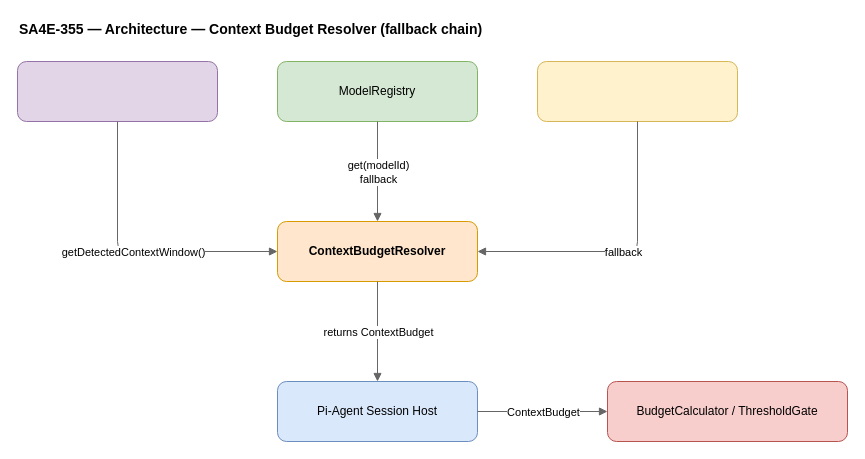
Some shapes in this 865 by 459 pixel diagram are drawn without their labels. Here are the shapes that lost their labels. From the top down, the centre of each, then its label:
At point (117, 91): "OpenAI Provider".
At point (637, 91): "Default 8192".
